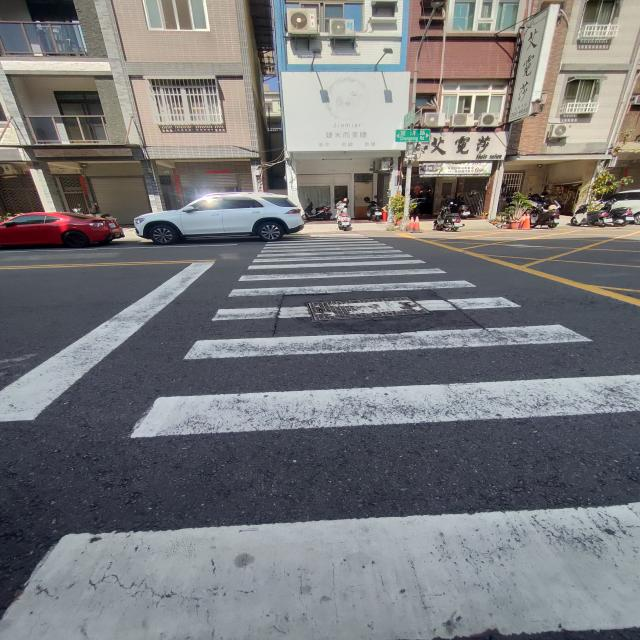zebra crossing: (0, 234, 640, 640)
